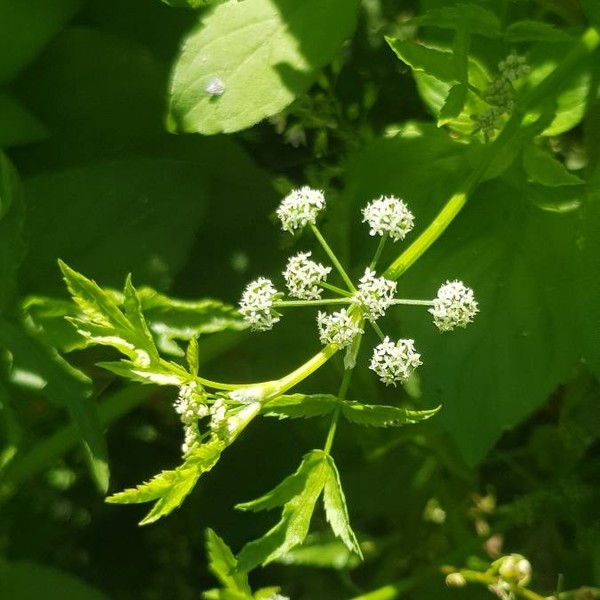obstacle: (70, 176, 407, 571)
